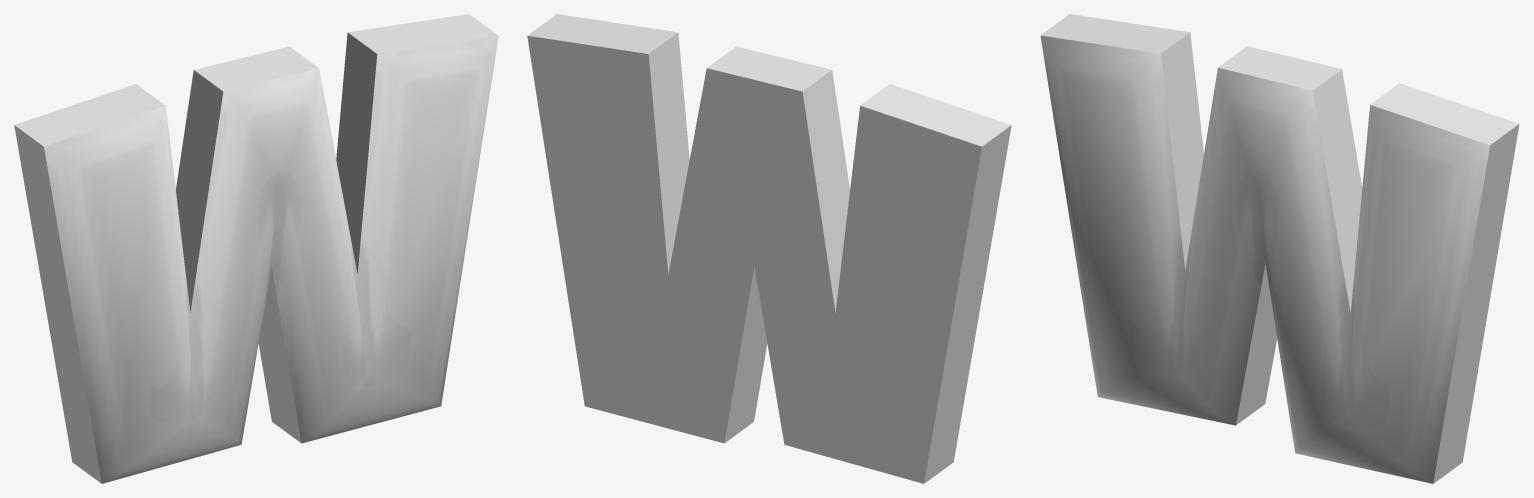
File: LettersStylized01_W.FBX
3 views of the same model, side by side, from view 1: azimuth 30°, elevation 25°; view 2: azimuth 150°, elevation 25°; view 3: azimuth 330°, elevation 25° (orthographic).
Parts seen in each view (by area): view 1: LettersStylized01_W; view 2: LettersStylized01_W; view 3: LettersStylized01_W.
Part boxes in pixels (left/top/right/bottom): LettersStylized01_W: left=14, top=14, right=498, bottom=483; LettersStylized01_W: left=527, top=14, right=1011, bottom=483; LettersStylized01_W: left=1040, top=14, right=1519, bottom=483.
Size of what is drawn, in the model's own units: 0.6015 by 0.4688 by 0.085.
